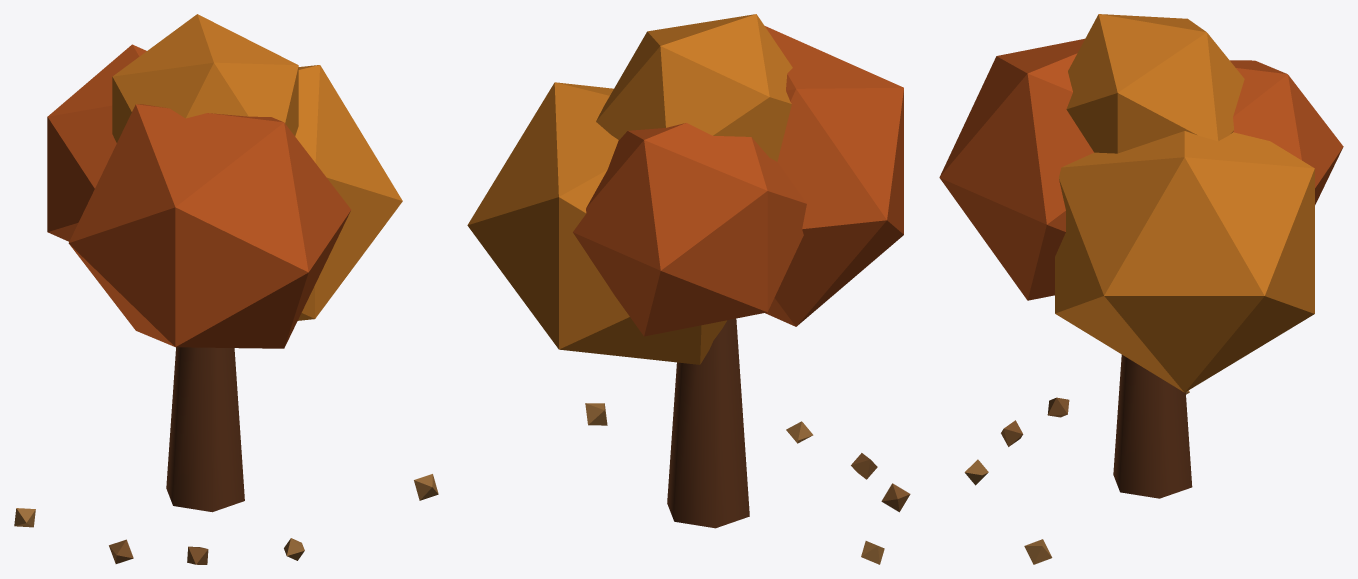
The model's file is castanyer.glb.
3 renders of one model, left to right at view 1: azimuth 30°, elevation 25°; view 2: azimuth 150°, elevation 25°; view 3: azimuth 270°, elevation 25°, orthographic. The views are drawn at different scales.
Visible parts, largest first — view 1: castanyer; view 2: castanyer; view 3: castanyer.
Part boxes in pixels (x1,y1,x2,y2): castanyer: (14,14,438,564); castanyer: (467,14,910,564); castanyer: (939,14,1343,564).
Size of the model in its own units: 3.44 by 4.3 by 3.42.
1 material, 1 textured.
